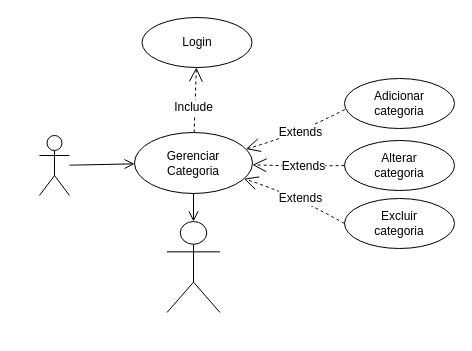
The diagram is 472 pixels wide and 351 high, and some of its shapes have lost their labels. The shapes that lost their labels are listed below. From the top down, each one's centre as x and y in pixels, then its label:
the point at 54,165: Administrador
the point at 193,266: SGBD
